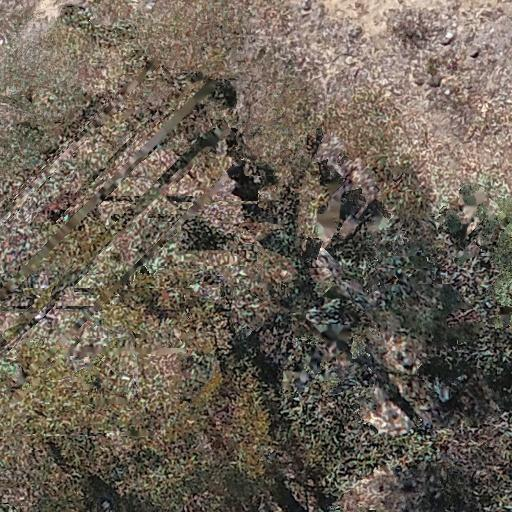stone: (345, 25, 364, 41), (440, 29, 457, 46), (470, 47, 486, 64), (426, 74, 444, 88), (300, 0, 313, 12), (412, 76, 426, 86), (344, 56, 357, 66)
